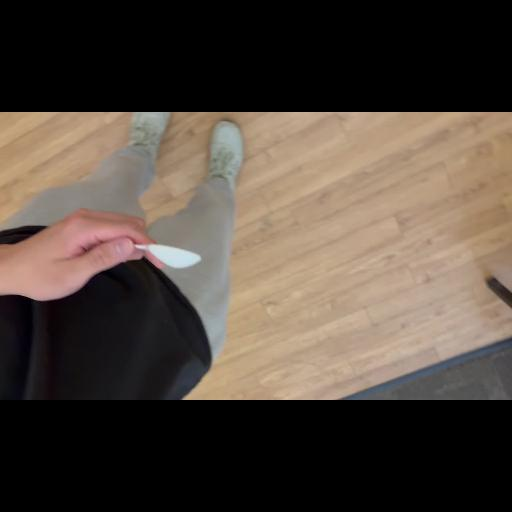utensil: (90, 242, 208, 272)
